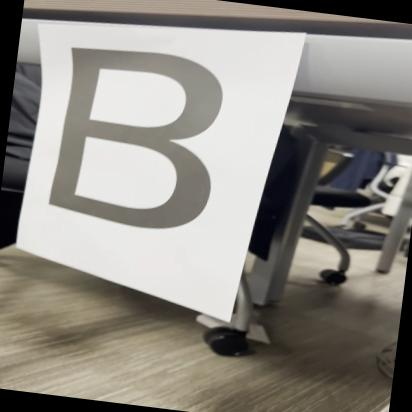seat: (34, 29, 234, 249)
